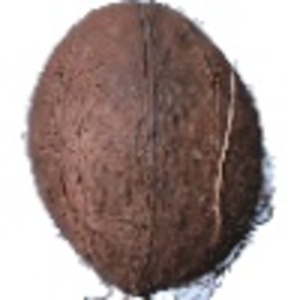coco: (26, 1, 277, 300)
